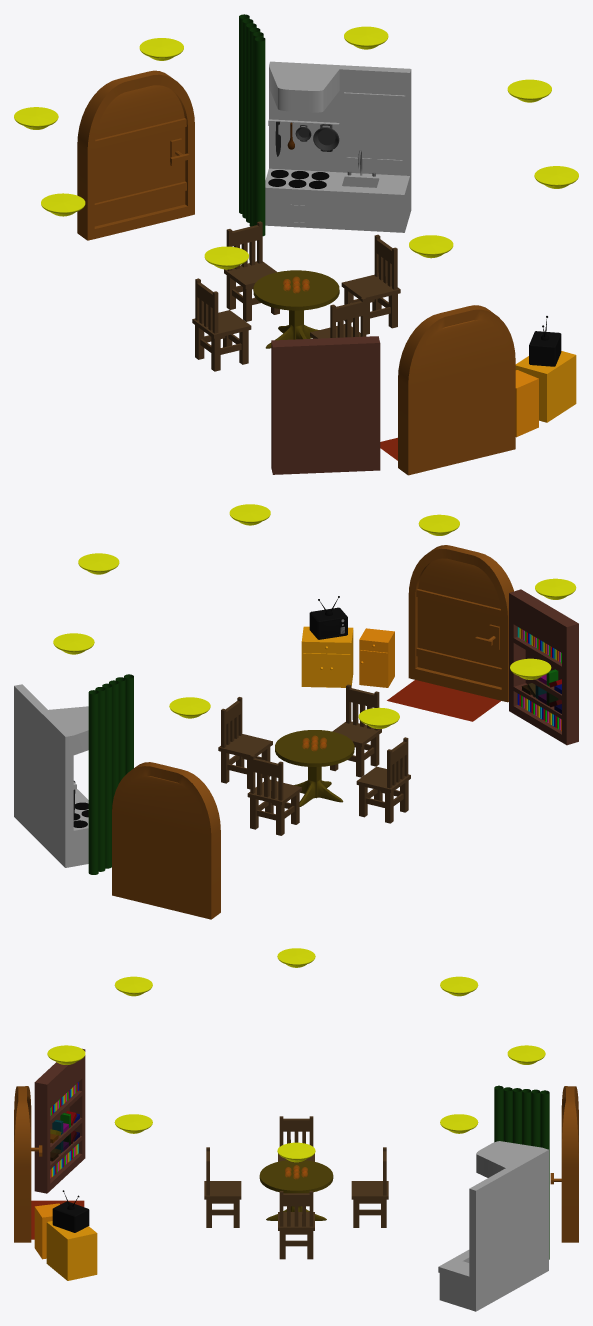
File: Goku's House Acessories.fbx
3 renders of one model, top to bottom at view 1: azimuth 30°, elevation 25°; view 2: azimuth 150°, elevation 25°; view 3: azimuth 270°, elevation 25°, orthographic. The views are drawn at different scales.
Visible parts, largest first — view 1: Kitchen, Door2, Door1, Bookshelf, BambooWall, Table, Chair3, Chair2, Chair4, Shelf2, Chair1, Shelf1 (+10 smaller); view 2: Door1, Door2, Kitchen, BambooWall, Bookshelf, Table, Shelf2, Chair4, Chair3, Mat, Chair2, Chair1 (+10 smaller); view 3: Kitchen, Bookshelf, BambooWall, Door2, Door1, Shelf2, Table, Chair2, Chair1, Chair4, TV, Chair3 (+9 smaller).
Part boxes in pixels (x1,y1,x2,y2): Kitchen: (265,61,411,232); Door2: (398,305,515,475); Door1: (77,70,194,240); Bookshelf: (271,336,380,474); BambooWall: (239,14,265,236); Table: (253,270,339,348); Chair3: (192,278,251,371); Chair2: (341,234,400,334); Chair4: (224,221,279,321); Shelf2: (515,351,576,422); Chair1: (310,297,366,338); Shelf1: (515,370,538,437); Door1: (112,762,220,919); Door2: (408,545,513,702); Kitchen: (14,684,88,867); BambooWall: (88,674,133,874); Bookshelf: (509,589,578,745); Table: (275,730,354,806); Shelf2: (301,626,353,687); Chair4: (247,754,301,835); Chair3: (356,737,410,823); Mat: (387,680,500,721); Chair2: (218,697,272,789); Chair1: (330,684,381,777); Kitchen: (438,1141,548,1311); Bookshelf: (34,1048,85,1193); BambooWall: (494,1085,549,1259); Door2: (14,1086,42,1242); Door1: (550,1086,578,1242); Shelf2: (46,1221,97,1280); Table: (259,1160,333,1220); Chair2: (278,1191,314,1259); Chair1: (204,1147,241,1227); Chair4: (351,1147,388,1227); TV: (52,1201,89,1232); Chair3: (278,1116,314,1193).
Bounding box in the file's own units: 541 × 201 × 614.
